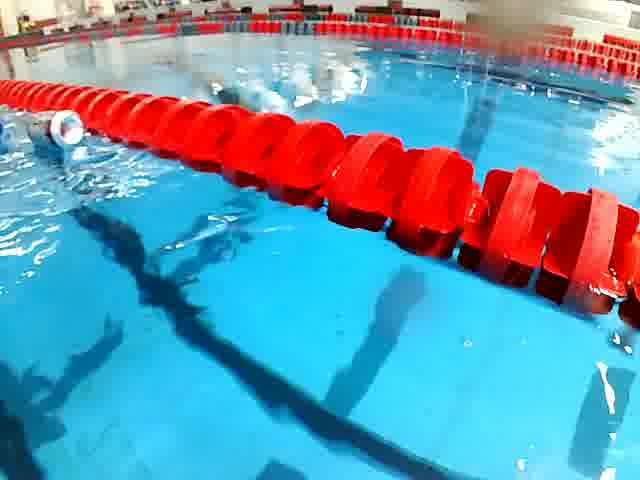Can: (27, 104, 100, 169)
